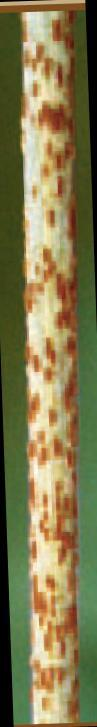Wheat: (27, 20, 76, 723)
